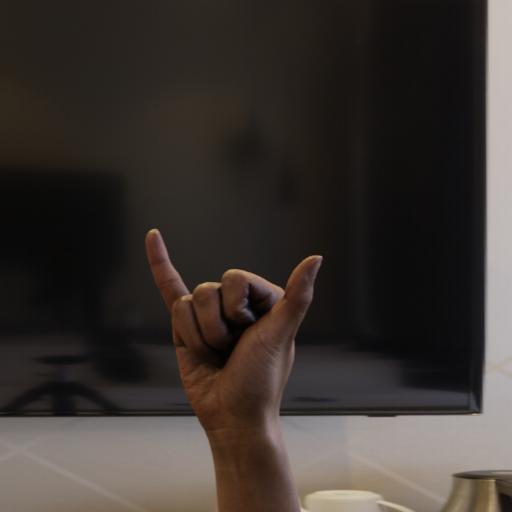Y: (141, 227, 328, 427)
